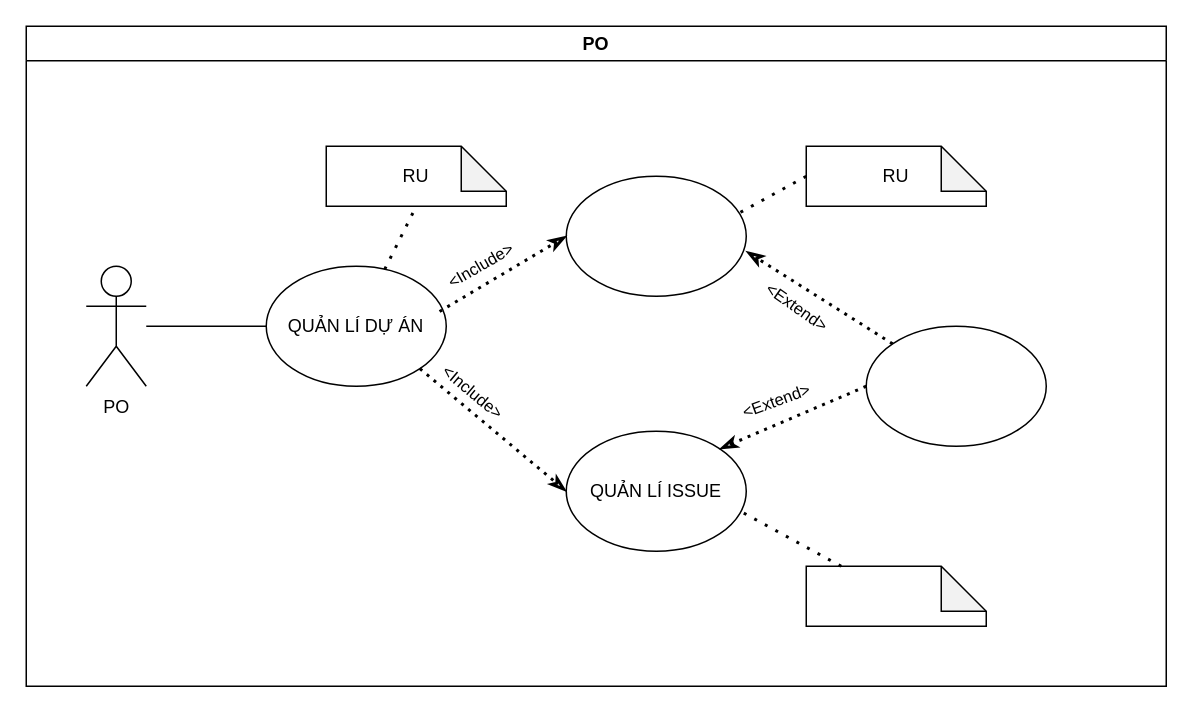
The diagram is 1193 pixels wide and 713 high, and some of its shapes have lost their labels. Here are the shapes that lost their labels. From the top down, the centre of each, then its label:
(x=655, y=235): QUẢN LÍ SPRINT
(x=955, y=385): NHẬN XÉT, YÊU CẦU CHUYỂN ĐỔI
(x=895, y=595): CRUD
